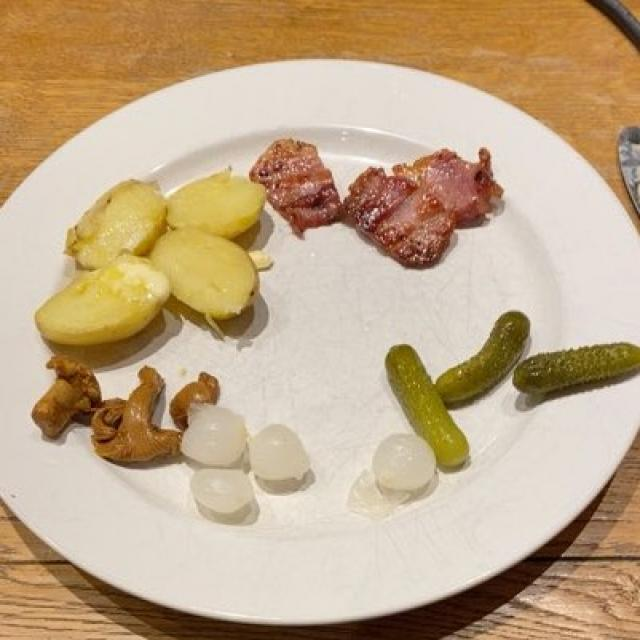bacon-cooking: (257, 140, 494, 264)
cucumber-pickled: (381, 310, 624, 482)
pearl-onions: (162, 407, 443, 525)
potatoes-steamed: (30, 179, 275, 349)
